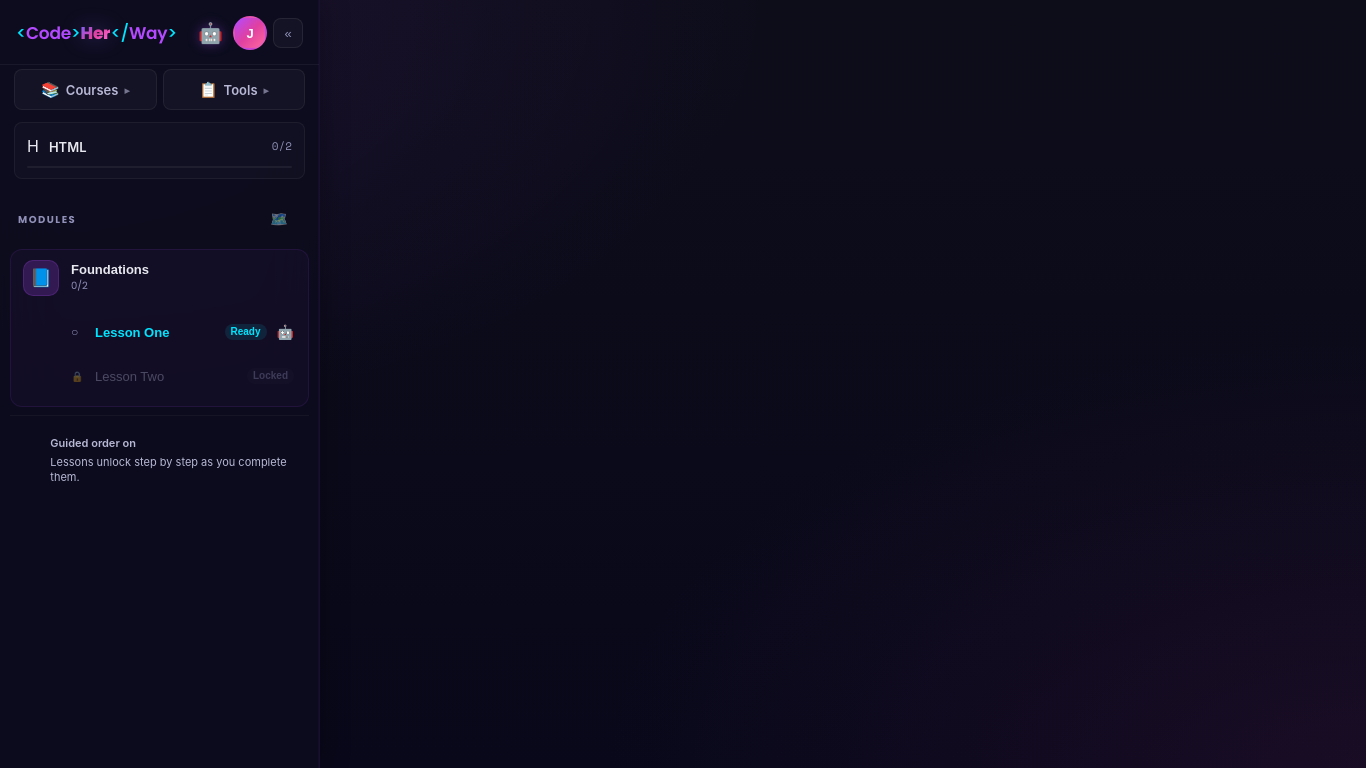
Test: Sidebar › sets Courses as the active sidebar tab and keeps course navigation visible
The width and height of the screenshot is (1366, 768).
Click the button "📚 Courses ▸" at (85,90), box x1=14 y1=69 x2=156 y2=110
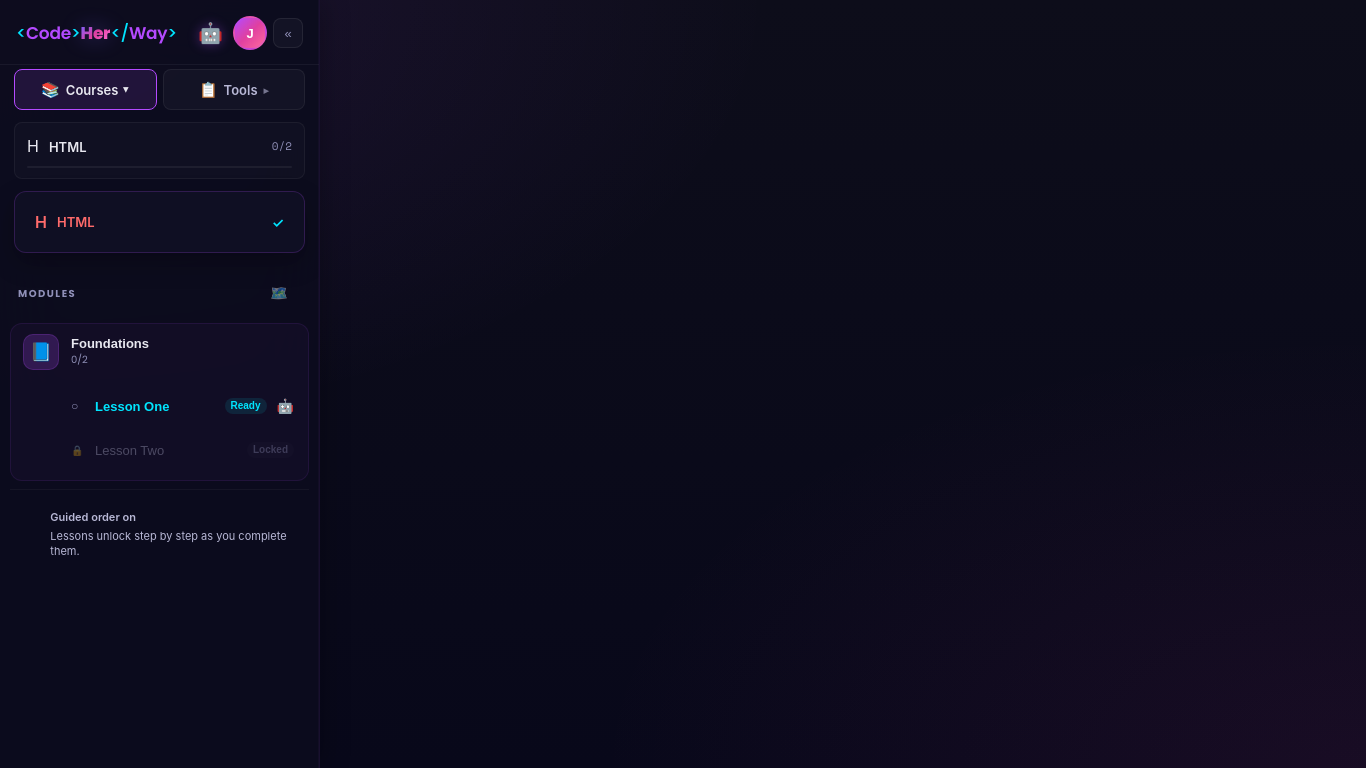
Expected: the text "Modules" is shown, x1=18 y1=285 x2=76 y2=302
Now the button "📚 Courses ▸" is expanded, box x1=14 y1=69 x2=156 y2=110
Now the menu named "courses" is shown, box x1=14 y1=191 x2=305 y2=253
